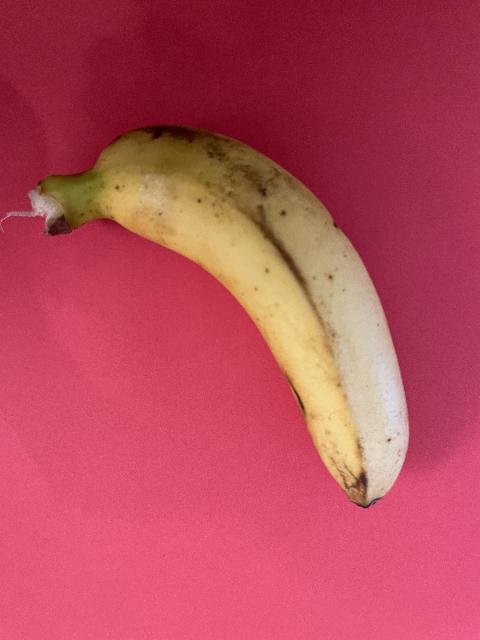banana: (27, 123, 410, 511)
